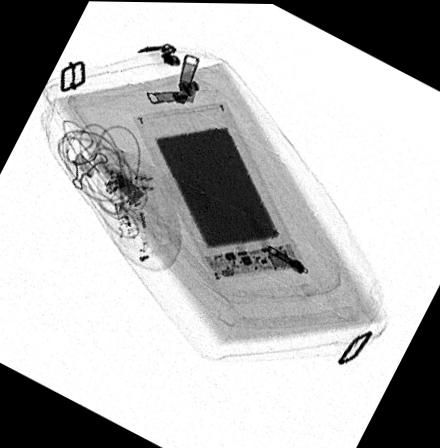Powerbank: (134, 100, 306, 280)
